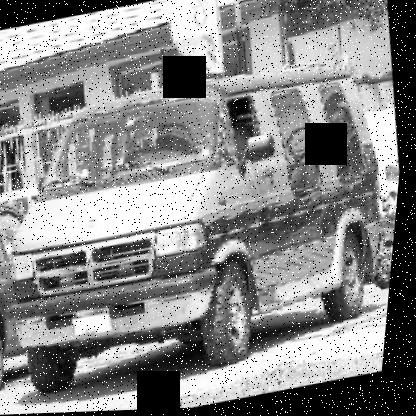not_emergency: (0, 42, 411, 403)
